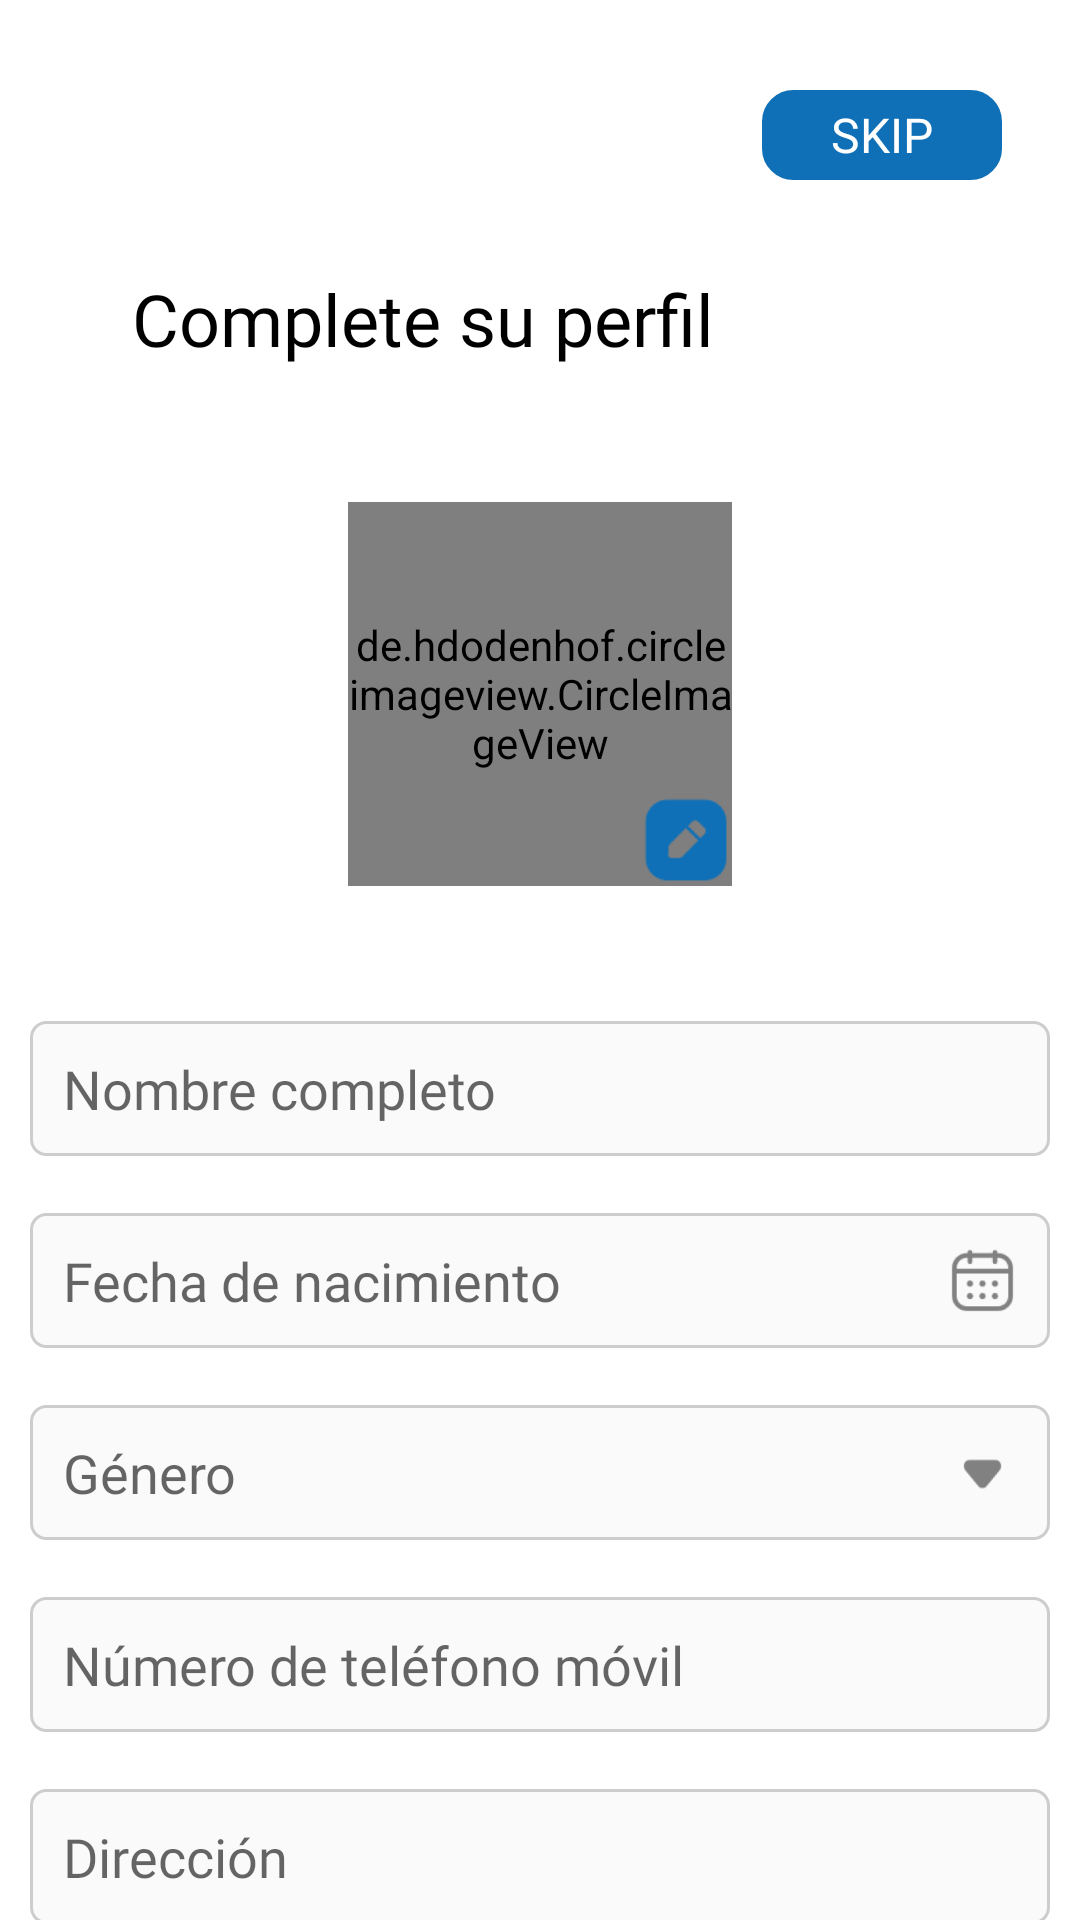

Point at icon controls on the screen. Image size 1080 × 1920, points as [x,y].
calendar: [982,1280]
down arrow: [982,1474]
